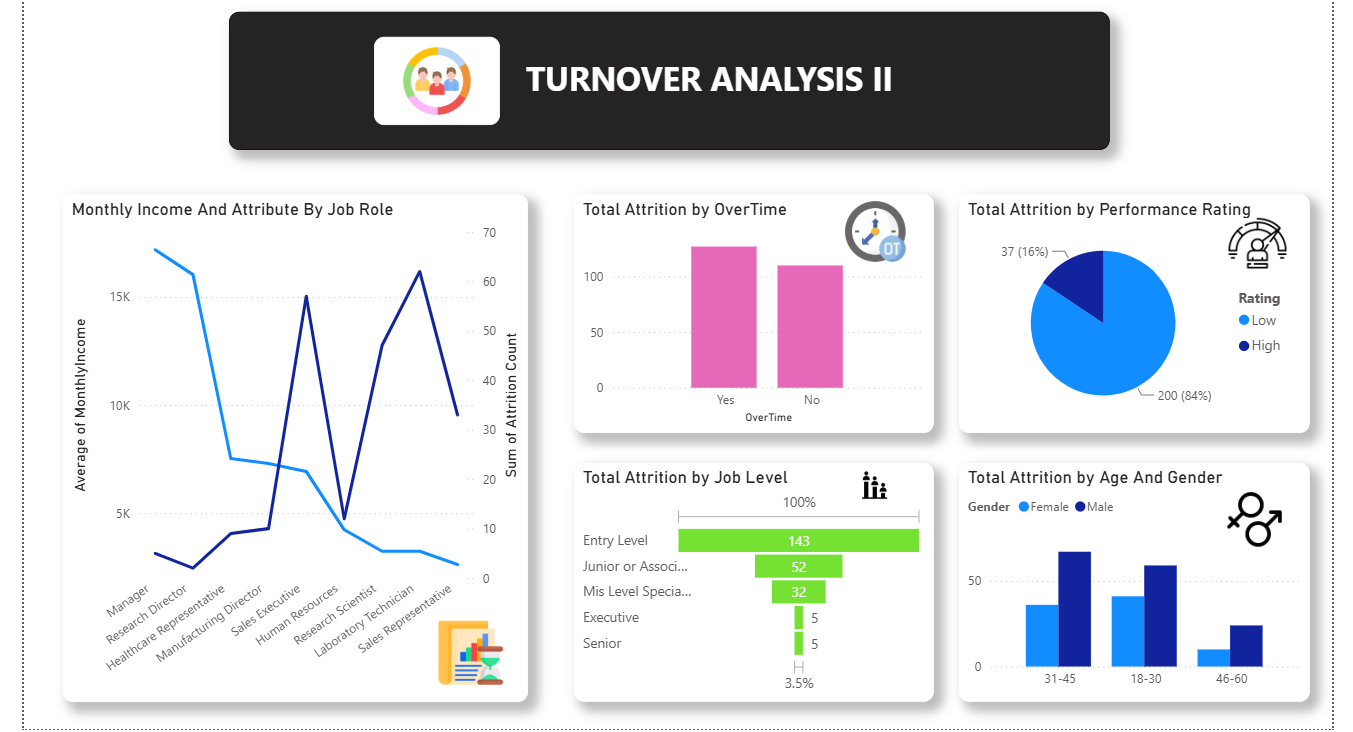

Layout of this report page (visuals, bound fields, positions):
{"tool":"powerbi","page":{"name":"Page 4","canvas":[1280,720],"ordinal":3},"visuals":[{"type":"group","id":"g1","title":"Group 1","box":[200,18.3,861.7,135],"z":0},{"type":"shape","box":[200,18.3,861.7,135],"z":0,"group":"g1"},{"type":"pieChart","title":"Total Attrition by Performance Rating","fields":{"Y":["Sum(HR-Employee-Attrition.Attrition Count)"],"Category":["HR-Employee-Attrition.PerformanceRating (groups)"]},"box":[915,196.7,343.3,233.3],"z":0,"group":"g4"},{"type":"clusteredColumnChart","title":"Total Attrition by Age And Gender","fields":{"Y":["Sum(HR-Employee-Attrition.Attrition Count)"],"Series":["HR-Employee-Attrition.Gender"],"Category":["HR-Employee-Attrition.Age (groups) 2"]},"box":[915,460,343.3,233.3],"z":0,"group":"g2"},{"type":"lineChart","title":"Monthly Income And Attribute By Job Role","fields":{"Y2":["Sum(HR-Employee-Attrition.Attrition Count)"],"Category":["HR-Employee-Attrition.JobRole"],"Y":["Avg(HR-Employee-Attrition.MonthlyIncome)"]},"box":[38.3,196.7,455,496.7],"z":1,"group":"g3"},{"type":"columnChart","title":"Total Attrition by OverTime","fields":{"Y":["Sum(HR-Employee-Attrition.Attrition Count)"],"Category":["HR-Employee-Attrition.OverTime"]},"box":[538.3,196.7,351.7,233.3],"z":2,"group":"g6"},{"type":"funnel","title":"Total Attrition by Job Level","fields":{"Y":["Sum(HR-Employee-Attrition.Attrition Count)"],"Category":["HR-Employee-Attrition.JobLevel (groups)"]},"box":[538.3,460,351.7,233.3],"z":3,"group":"g5"},{"type":"image","box":[381.6,608.4,111.7,73.3],"z":9,"group":"g3"},{"type":"image","box":[805,460,55,43.3],"z":12,"group":"g5"},{"type":"image","box":[795,196.7,76.7,73.3],"z":14,"group":"g6"},{"type":"image","box":[341.7,43.3,123.3,86.7],"z":500,"group":"g1"},{"type":"textbox","box":[480,56.1,380,60],"z":1000,"group":"g1"},{"type":"image","box":[1173.3,211.7,68.3,66.7],"z":1000,"group":"g4"},{"type":"group","id":"g2","title":"Group 2","box":[915,460,343.3,233.3],"z":1000},{"type":"image","box":[1166.7,481.7,75,66.7],"z":1000,"group":"g2"},{"type":"group","id":"g3","title":"Group 3","box":[38.3,196.7,455,496.7],"z":2000},{"type":"group","id":"g4","title":"Group 4","box":[915,196.7,343.3,233.3],"z":3000},{"type":"group","id":"g5","title":"Group 5","box":[538.3,460,351.7,233.3],"z":4000},{"type":"group","id":"g6","title":"Group 6","box":[538.3,196.7,351.7,233.3],"z":5000}]}

Visuals, with their boxes on the page's 1280x720 design canvas (x1, y1, x2, y2). These are canvas units, not pixel positions in the 1353x732 screenshot, which may show the page scaled, cropped or inside an application window:
"Group 1" group: l=200, t=18, r=1062, b=153
shape: l=200, t=18, r=1062, b=153
"Total Attrition by Performance Rating" pieChart: l=915, t=197, r=1258, b=430
"Total Attrition by Age And Gender" clusteredColumnChart: l=915, t=460, r=1258, b=693
"Monthly Income And Attribute By Job Role" lineChart: l=38, t=197, r=493, b=693
"Total Attrition by OverTime" columnChart: l=538, t=197, r=890, b=430
"Total Attrition by Job Level" funnel: l=538, t=460, r=890, b=693
image: l=382, t=608, r=493, b=682
image: l=805, t=460, r=860, b=503
image: l=795, t=197, r=872, b=270
image: l=342, t=43, r=465, b=130
textbox: l=480, t=56, r=860, b=116
image: l=1173, t=212, r=1242, b=278
"Group 2" group: l=915, t=460, r=1258, b=693
image: l=1167, t=482, r=1242, b=548
"Group 3" group: l=38, t=197, r=493, b=693
"Group 4" group: l=915, t=197, r=1258, b=430
"Group 5" group: l=538, t=460, r=890, b=693
"Group 6" group: l=538, t=197, r=890, b=430
